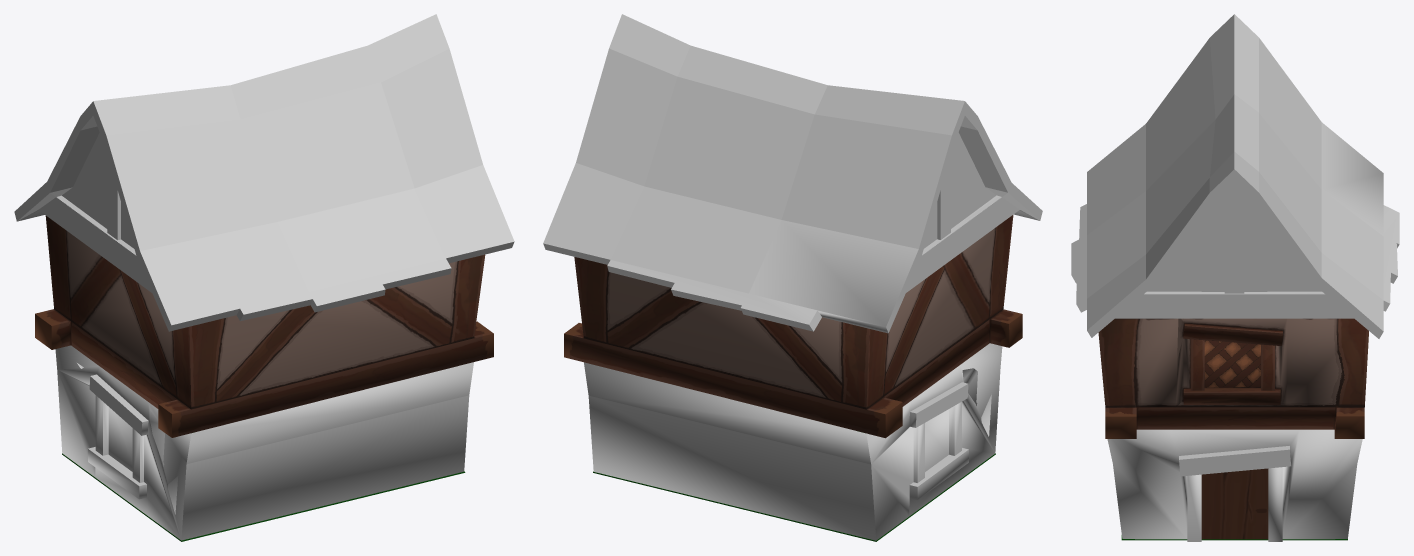
The model's file is house1.5.fbx.
The picture shows the model from 3 angles, left to right: view 1: azimuth 30°, elevation 25°; view 2: azimuth 150°, elevation 25°; view 3: azimuth 270°, elevation 25°; orthographic projection. The views are drawn at different scales.
Visible parts, largest first — view 1: Cube.000, Cube.013, Cube.004, Плоскость.002; view 2: Cube.000, Cube.013, Cube.004, Плоскость.002; view 3: Cube.000, Cube.013, Cube.004, Cube.005, Плоскость.002.
Boxes of the visible parts, x1=… form: Cube.000: x1=14, y1=14, x2=514, y2=331; Cube.013: x1=35, y1=215, x2=493, y2=437; Cube.004: x1=55, y1=345, x2=473, y2=540; Плоскость.002: x1=62, y1=453, x2=465, y2=541; Cube.000: x1=543, y1=14, x2=1042, y2=333; Cube.013: x1=564, y1=215, x2=1022, y2=438; Cube.004: x1=584, y1=343, x2=1002, y2=540; Плоскость.002: x1=593, y1=453, x2=995, y2=541; Cube.000: x1=1071, y1=14, x2=1399, y2=338; Cube.013: x1=1098, y1=318, x2=1368, y2=438; Cube.004: x1=1107, y1=429, x2=1362, y2=541; Cube.005: x1=1201, y1=468, x2=1268, y2=539; Плоскость.002: x1=1121, y1=535, x2=1347, y2=540.
Size of the model in its own units: 406 by 461 by 355.
